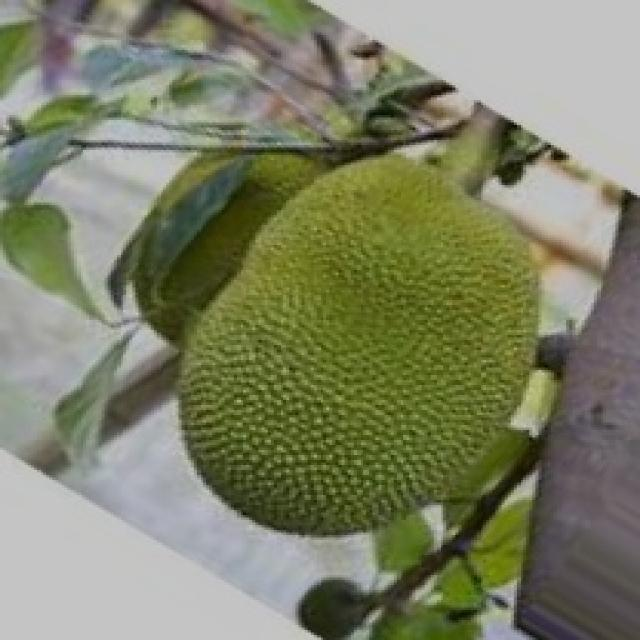Fruit: (154, 130, 572, 542)
